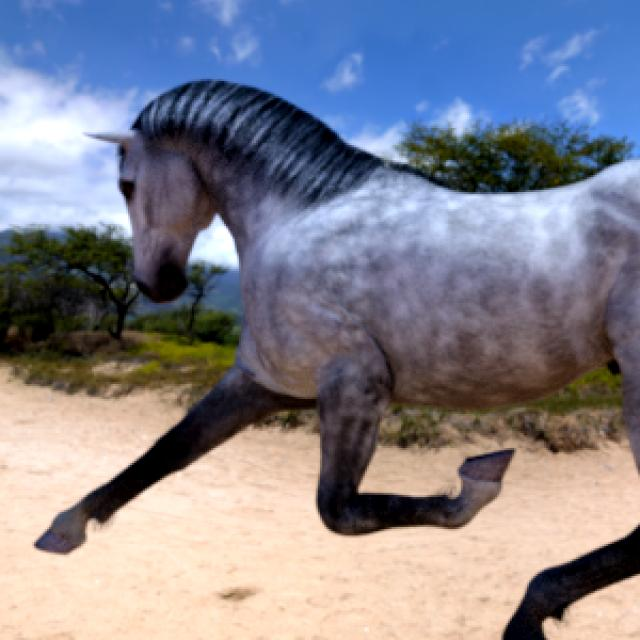horse: (35, 81, 640, 553)
